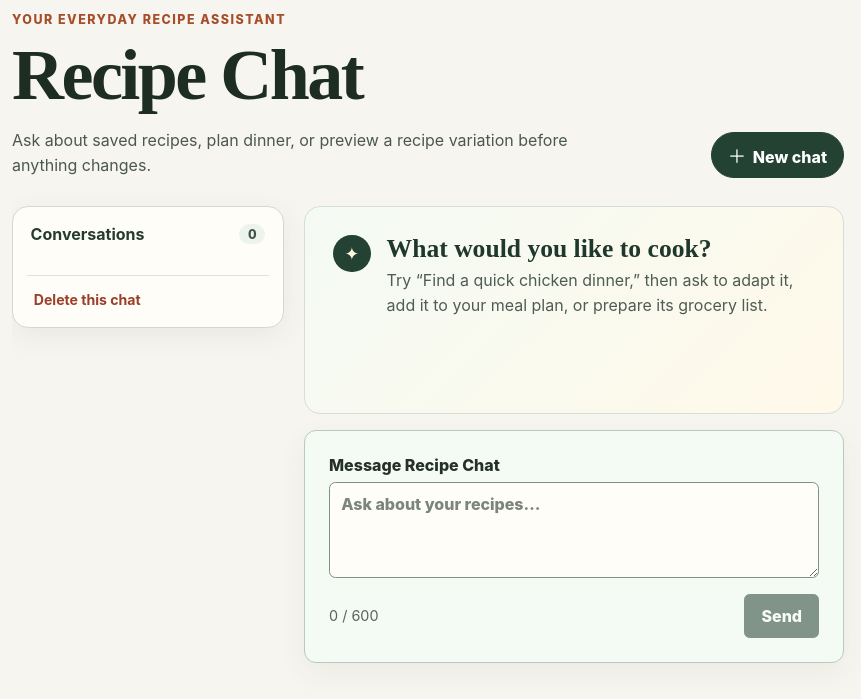
it: streams and persists a labeled answer with recipe citations
The image size is (861, 699).
Expected: the text "Your everyday recipe assistant" is shown, [12, 12, 286, 27]
Type "Find shrimp" into the text box labelled "Message Recipe Chat" at (574, 530), box [329, 482, 819, 578]
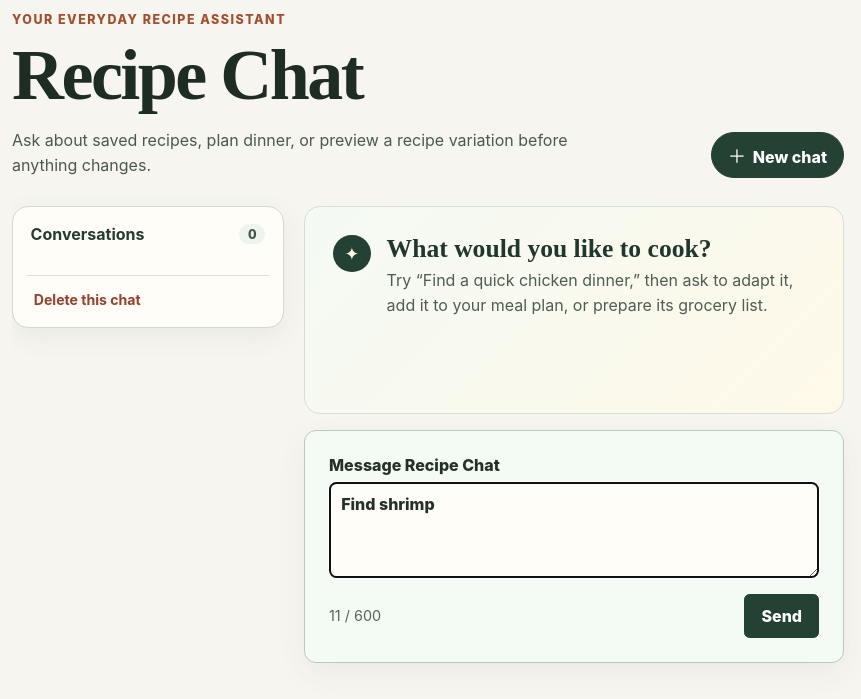
Click the button "Send" at (782, 616), box [744, 594, 819, 638]
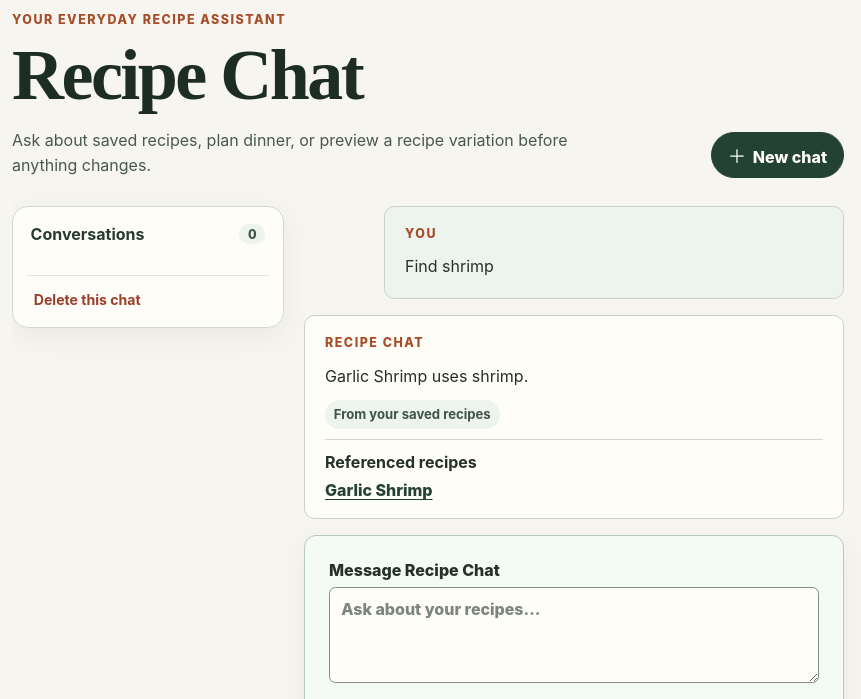
Expected: the text "From your saved recipes" is shown, [325, 400, 500, 429]
